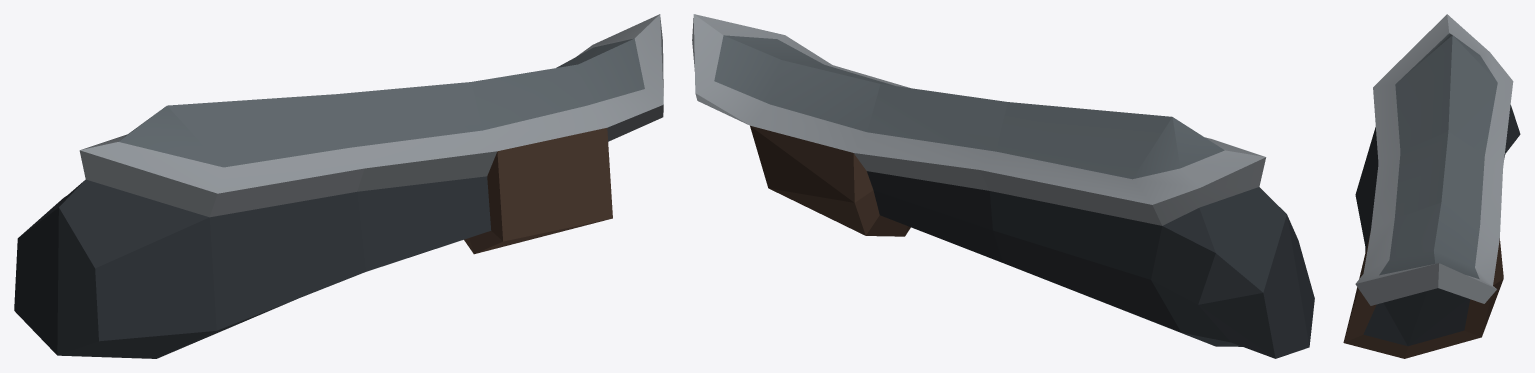
Rendered from Chr_ArmLowerLeft_Female_12_Static.fbx.
3 views of the same model, side by side, from view 1: azimuth 30°, elevation 25°; view 2: azimuth 150°, elevation 25°; view 3: azimuth 270°, elevation 25° (orthographic). The views are drawn at different scales.
Parts seen in each view (by area): view 1: Chr_ArmLowerLeft_Female_12_Static; view 2: Chr_ArmLowerLeft_Female_12_Static; view 3: Chr_ArmLowerLeft_Female_12_Static.
Boxes of the visible parts, x1,y1,x2,y2 form: Chr_ArmLowerLeft_Female_12_Static: (14,14,663,358); Chr_ArmLowerLeft_Female_12_Static: (692,14,1314,358); Chr_ArmLowerLeft_Female_12_Static: (1343,14,1520,358).
Bounding box in the file's own units: 0.3356 × 0.1223 × 0.0947.
